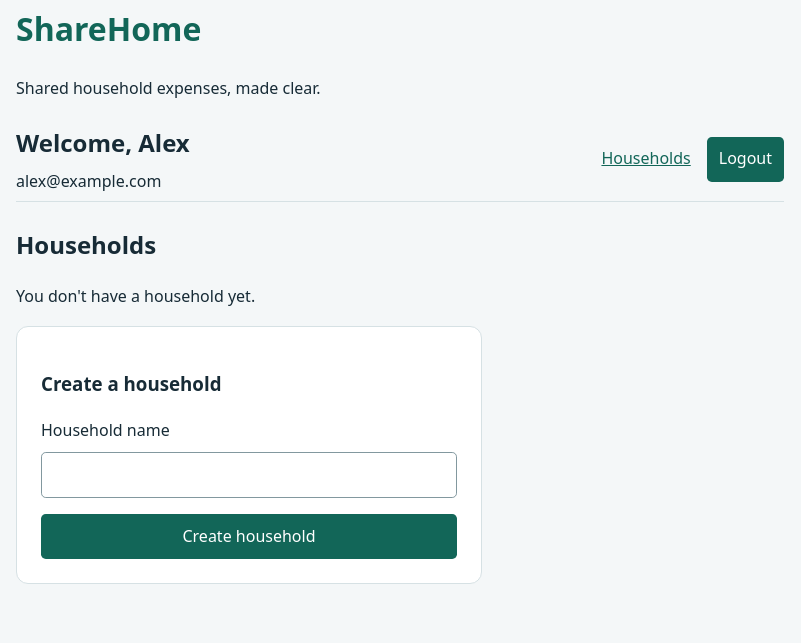
Test: shows sanitized creation error 422
Expected: the text "You don't have a household yet." is shown, top-left (16, 285), bottom-right (255, 307)
Type "Home" into the field labelled "Household name" at (249, 475), box top-left (41, 452), bottom-right (457, 498)
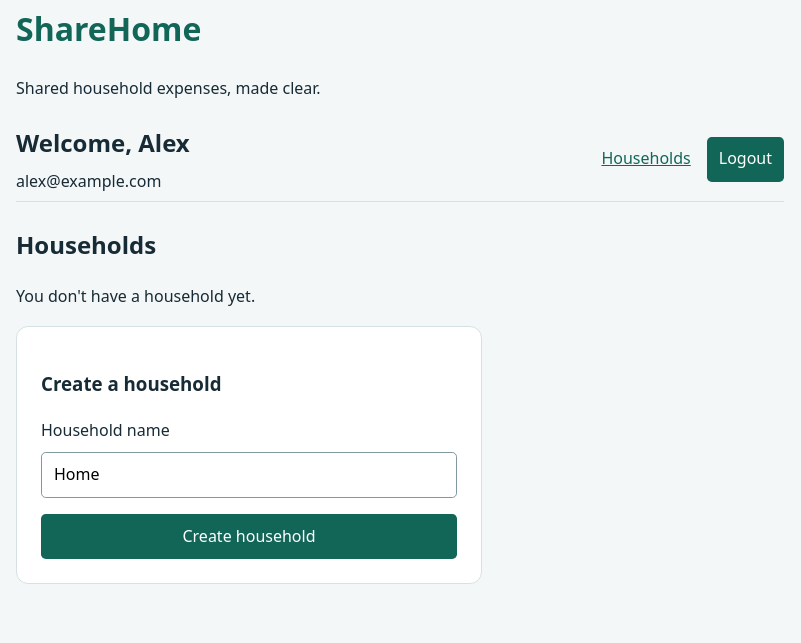
Click the button "Create household" at (249, 537), box top-left (41, 514), bottom-right (457, 559)
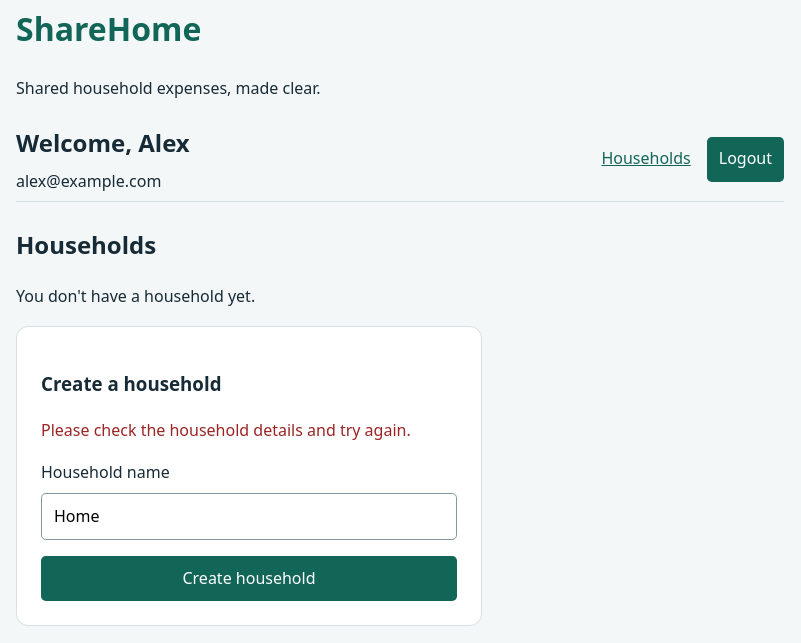
Expected: the button "Create household" is enabled, top-left (41, 556), bottom-right (457, 601)
Result: the message shows "Please check the household details" at top-left (41, 419), bottom-right (411, 441)
